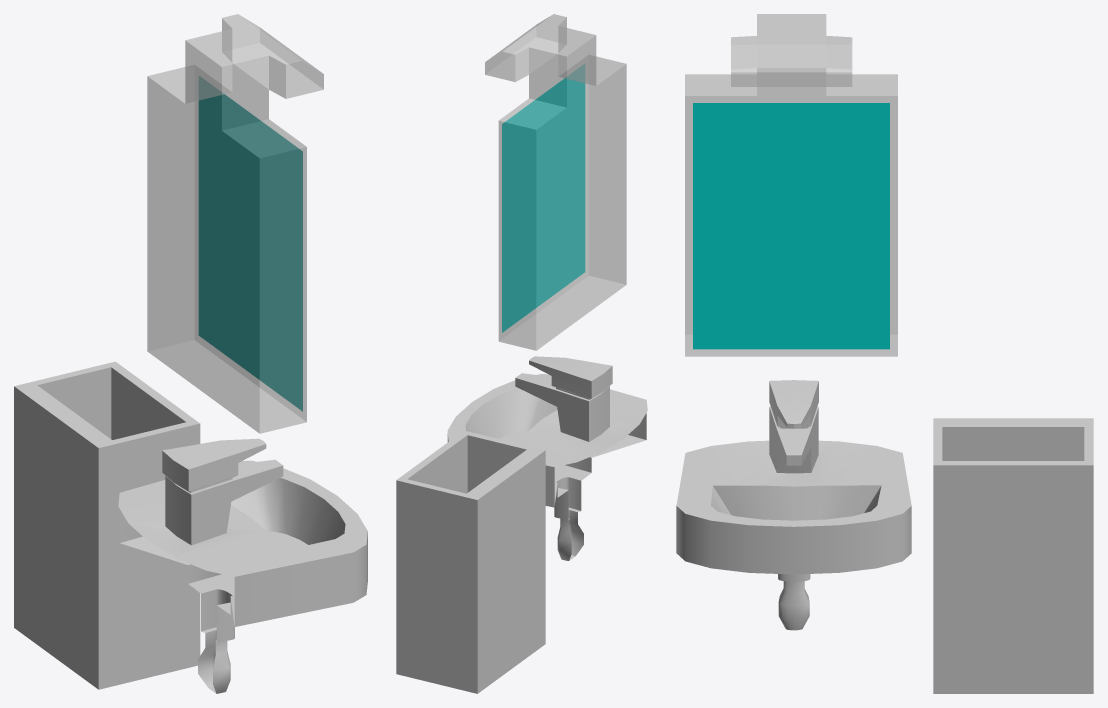
Rendered from TV_PeiliJaHana.fbx.
3 views of the same model, side by side, from view 1: azimuth 30°, elevation 25°; view 2: azimuth 150°, elevation 25°; view 3: azimuth 270°, elevation 25° (orthographic). The views are drawn at different scales.
Parts seen in each view (by area): view 1: Peili, Roskis, Lavuaari; view 2: Peili, Roskis, Lavuaari; view 3: Peili, Roskis, Lavuaari.
Part boxes in pixels (x1=…): Peili: x1=147, y1=14, x2=323, y2=433; Roskis: x1=14, y1=361, x2=200, y2=689; Lavuaari: x1=118, y1=438, x2=367, y2=693; Peili: x1=485, y1=14, x2=626, y2=350; Roskis: x1=396, y1=430, x2=545, y2=693; Lavuaari: x1=447, y1=356, x2=647, y2=560; Peili: x1=685, y1=14, x2=897, y2=356; Roskis: x1=933, y1=418, x2=1093, y2=693; Lavuaari: x1=676, y1=380, x2=911, y2=630.
Bounding box in the file's own units: 157 × 544 × 318.
